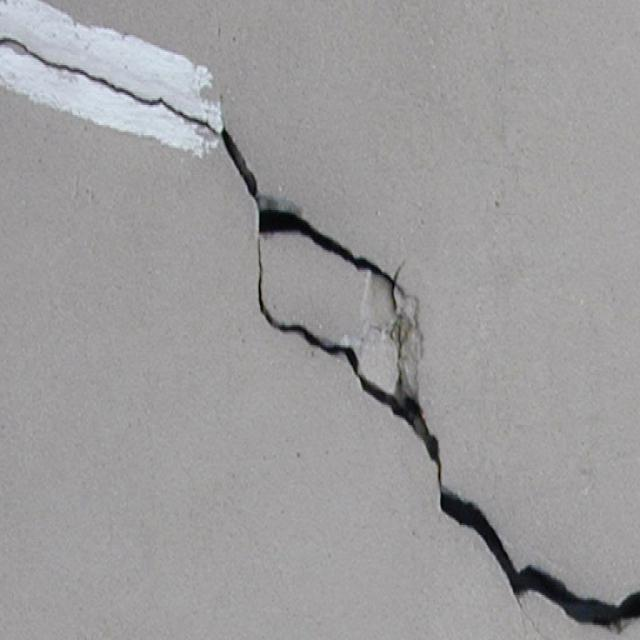Annular: (215, 180, 457, 439)
Diagonal: (422, 441, 640, 640), (0, 26, 259, 172)
